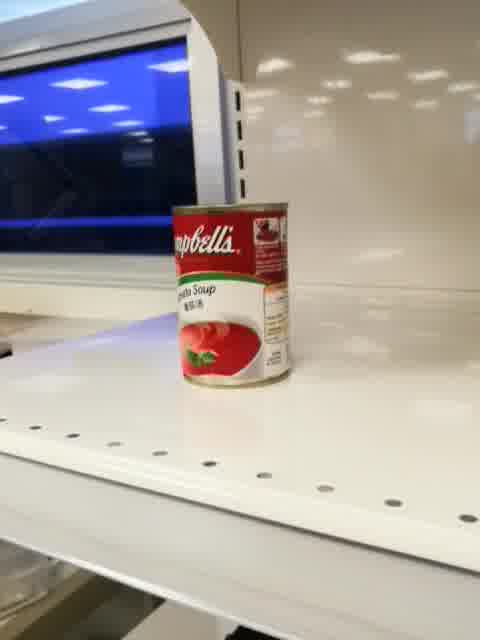tomatosoup: (171, 201, 294, 389)
